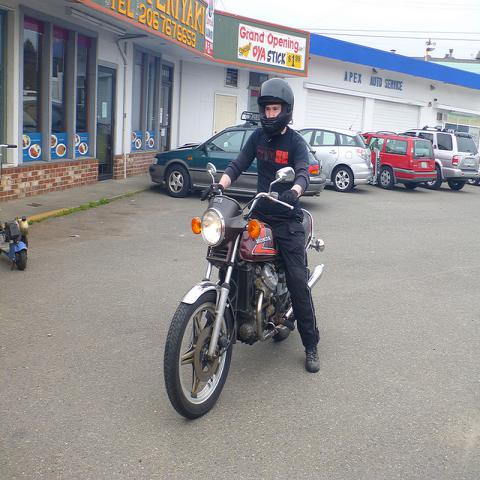car: (146, 123, 326, 199), (396, 127, 479, 192), (301, 126, 376, 192), (364, 134, 436, 189), (468, 176, 480, 184)
motorcycle: (163, 162, 329, 423)
